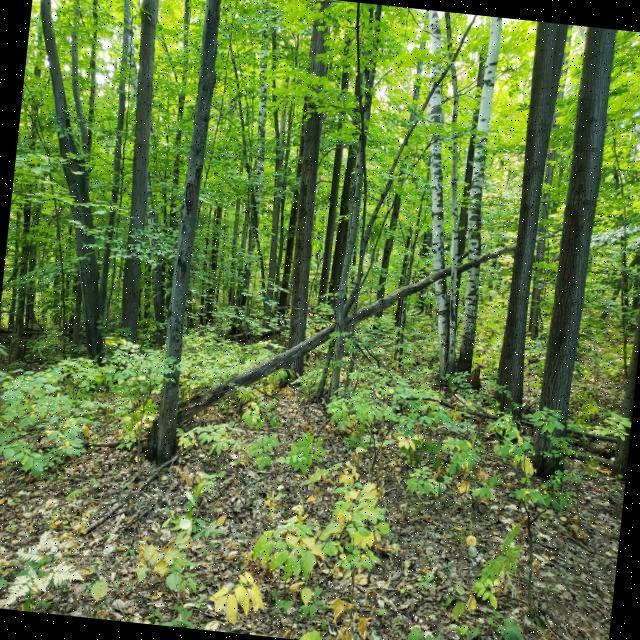fallen_object: (174, 176, 553, 477)
